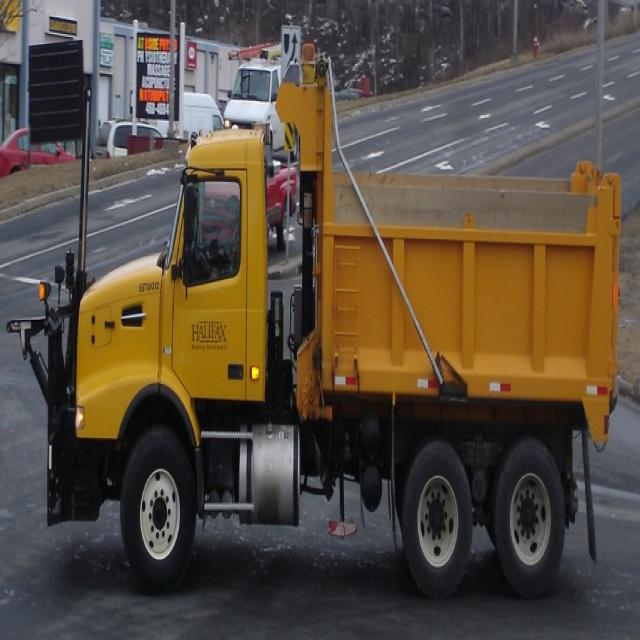Car: (0, 125, 80, 179), (95, 118, 163, 159)
